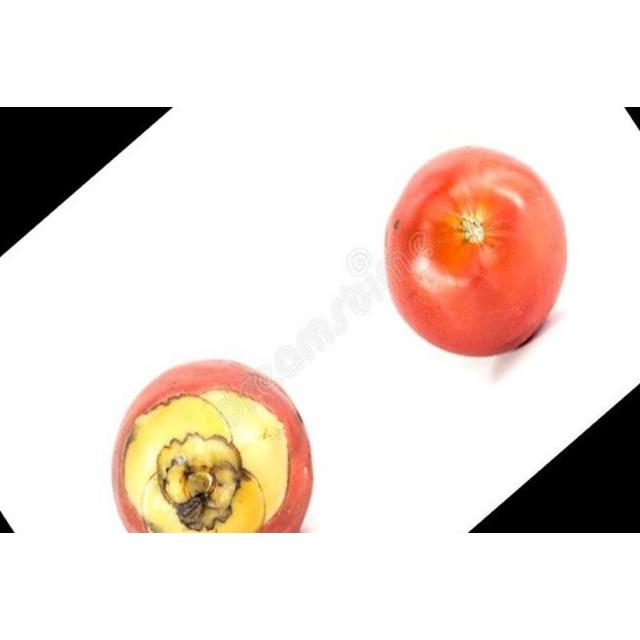good: (385, 148, 566, 356), (113, 362, 310, 533)
